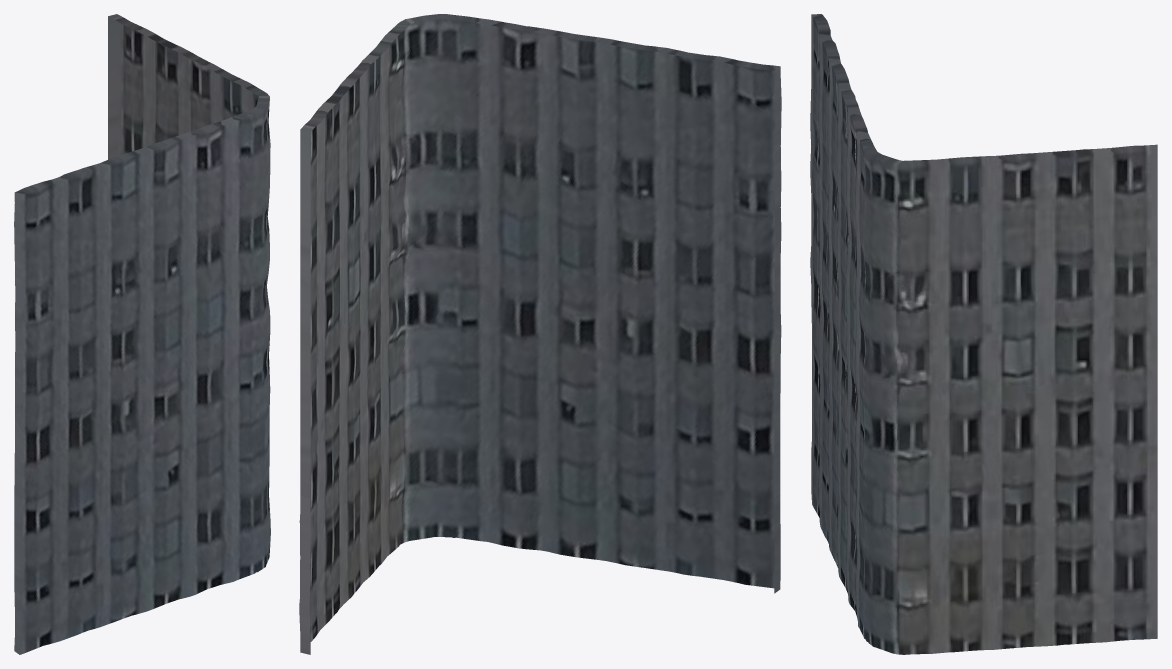
The model's file is z20-167749-405241-h1-yup-uvflip-v3-world.glb.
The picture shows the model from 3 angles, left to right: view 1: azimuth 30°, elevation 25°; view 2: azimuth 150°, elevation 25°; view 3: azimuth 270°, elevation 25°; orthographic projection. The views are drawn at different scales.
Size of the model in its own units: 15.44 by 23.12 by 14.88.
1 material, 1 textured.
